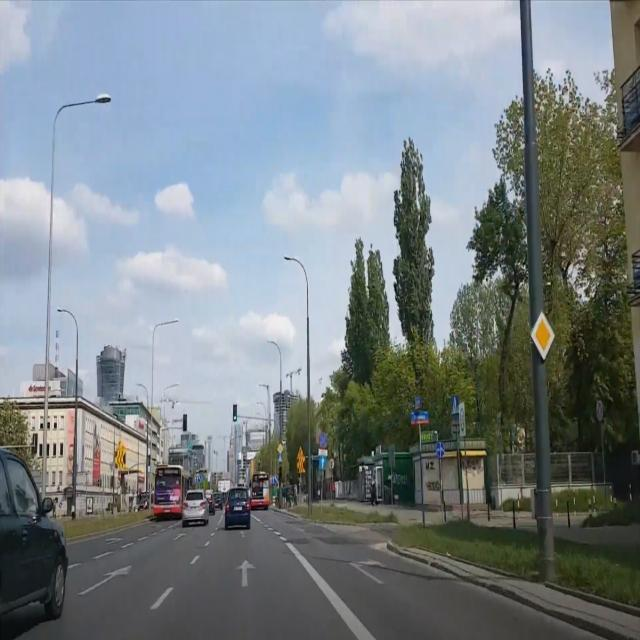Droga z pierwszenstwem: (530, 310, 556, 360)
Zakaz zatrzymywania sie: (319, 430, 328, 449), (596, 398, 603, 421)
